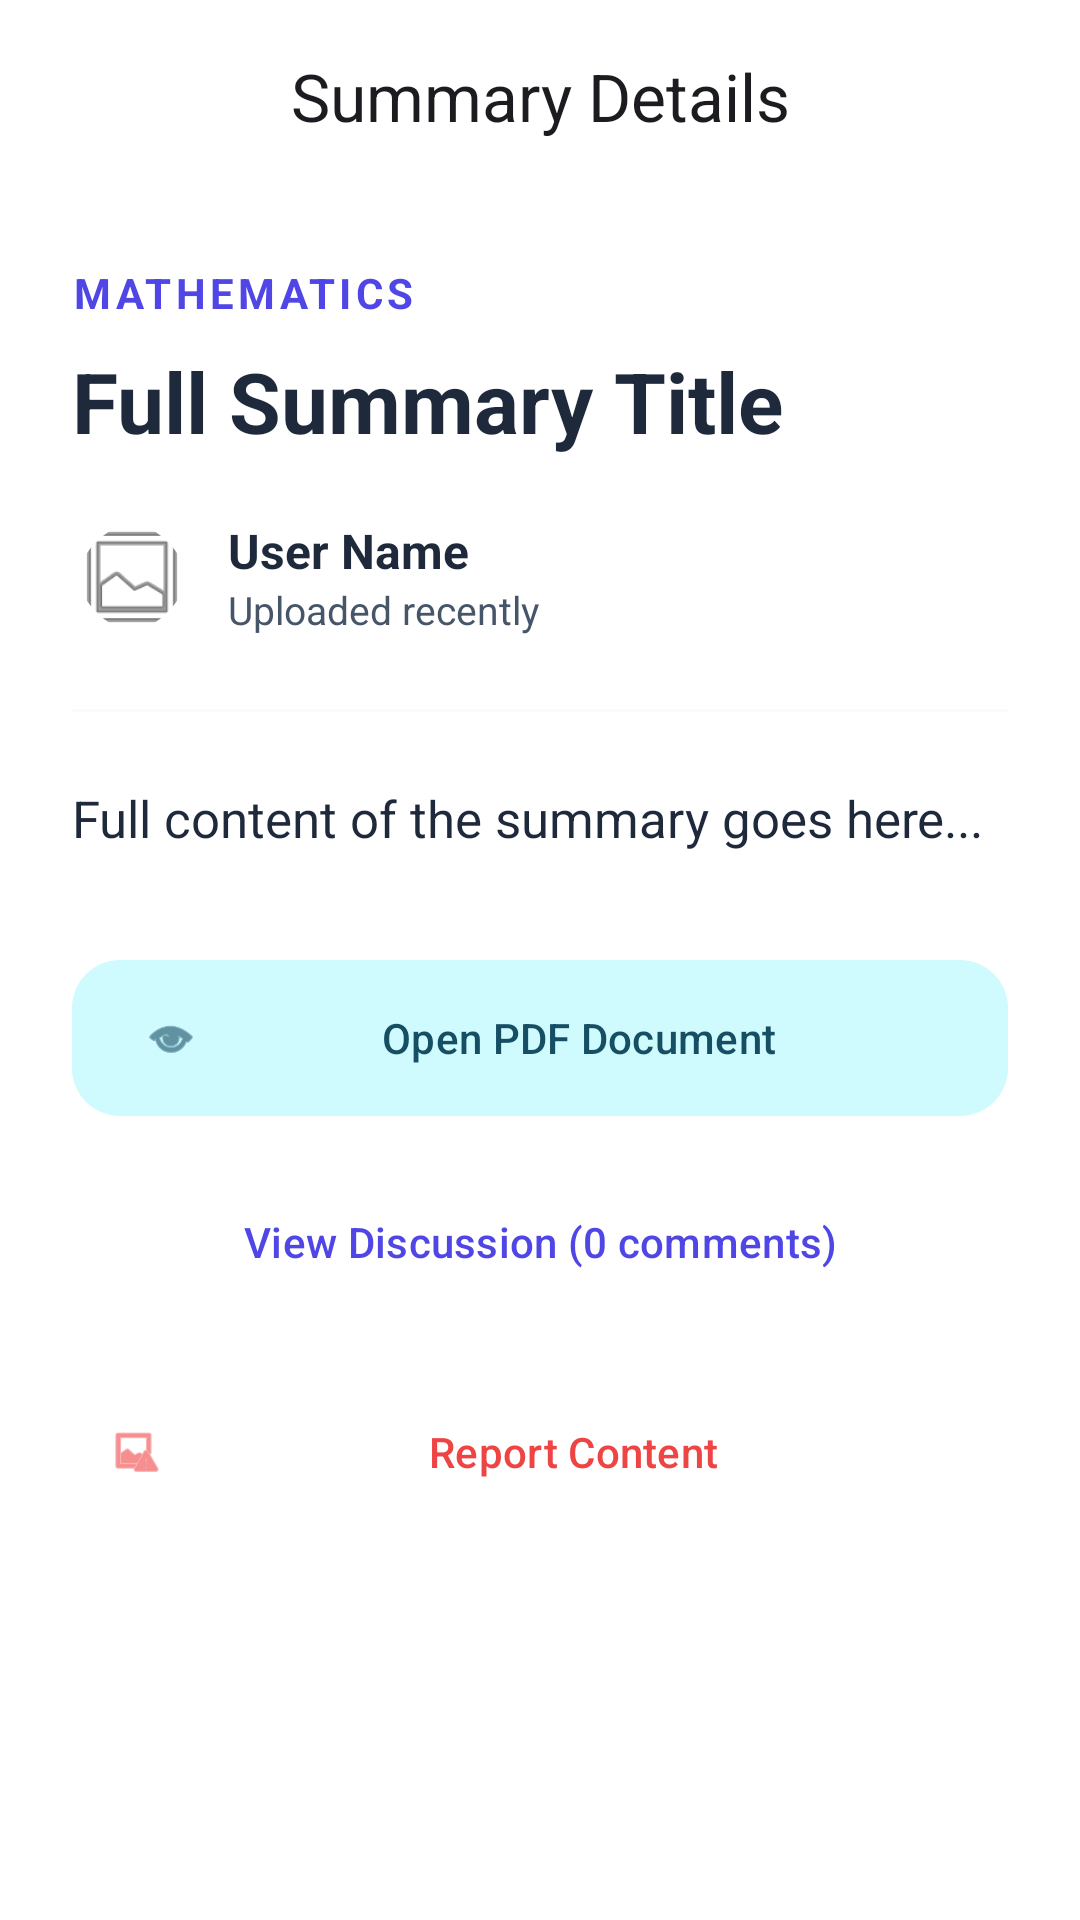

Where to tap for icons on this 1080 × 1920 app screen, as [x,y]:
gallery: [132,577]
